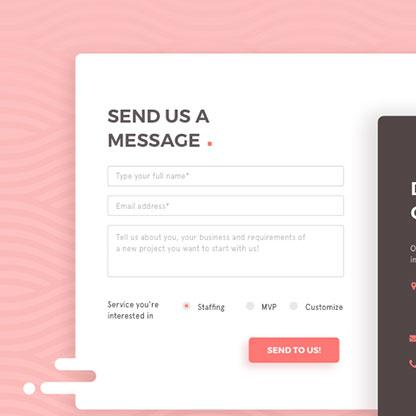button: (248, 337, 341, 363)
field: (106, 224, 345, 278), (106, 194, 346, 216), (106, 165, 344, 187)
